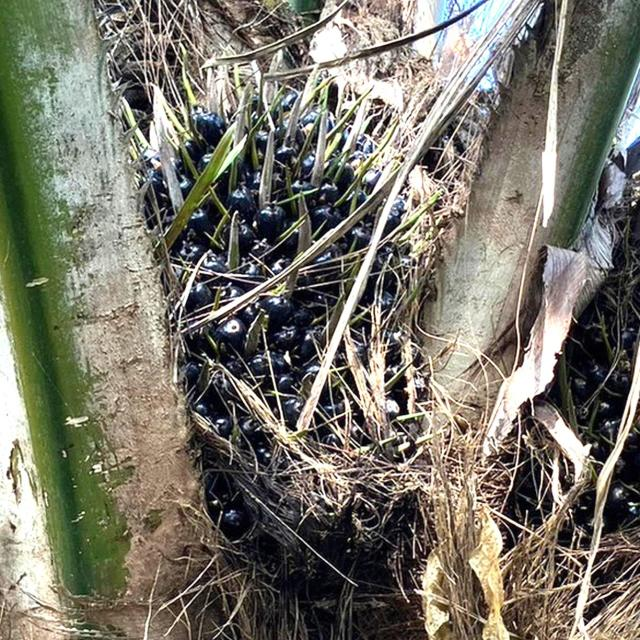unripe: (92, 38, 521, 588)
